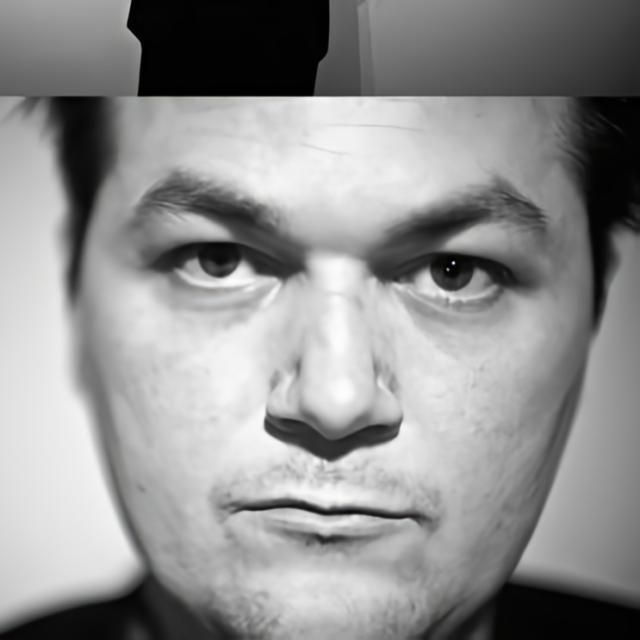anger: (109, 86, 564, 640)
